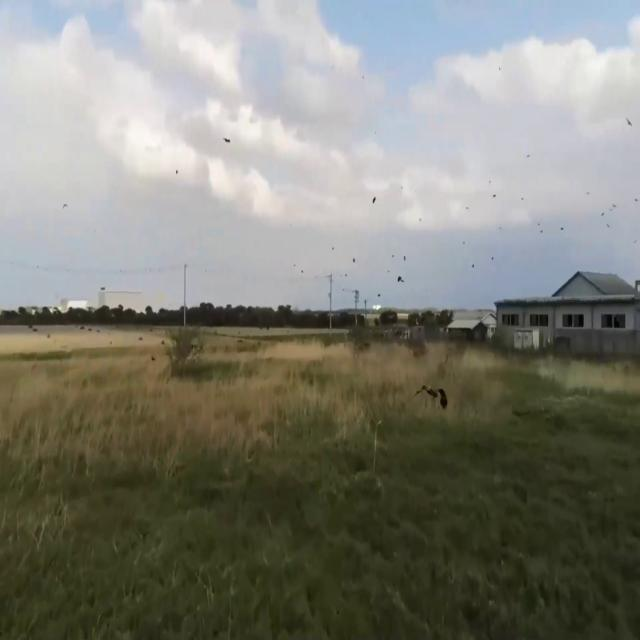bird: (625, 110, 633, 134), (223, 130, 230, 152)
